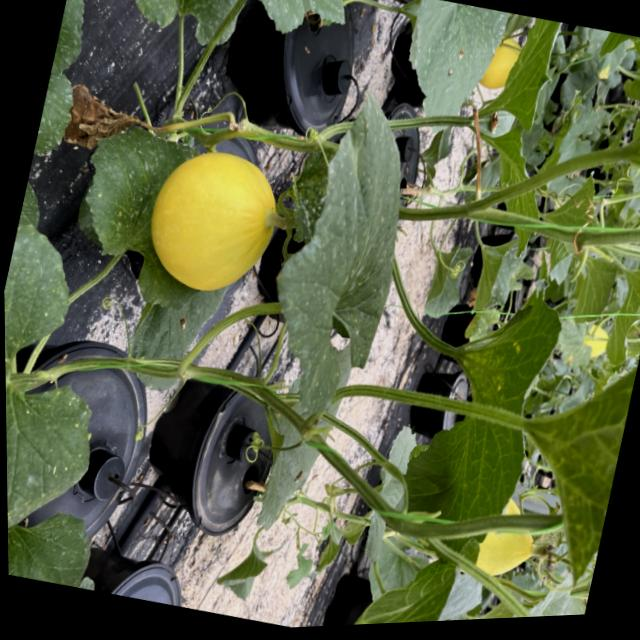downy mildew: (257, 102, 429, 424), (3, 223, 137, 585), (398, 281, 569, 541), (70, 117, 202, 276), (376, 0, 510, 130), (29, 0, 110, 164), (95, 0, 247, 61), (215, 0, 355, 61)
healthy: (303, 548, 471, 627), (483, 10, 572, 140)
powdery mildew: (7, 493, 96, 591)
